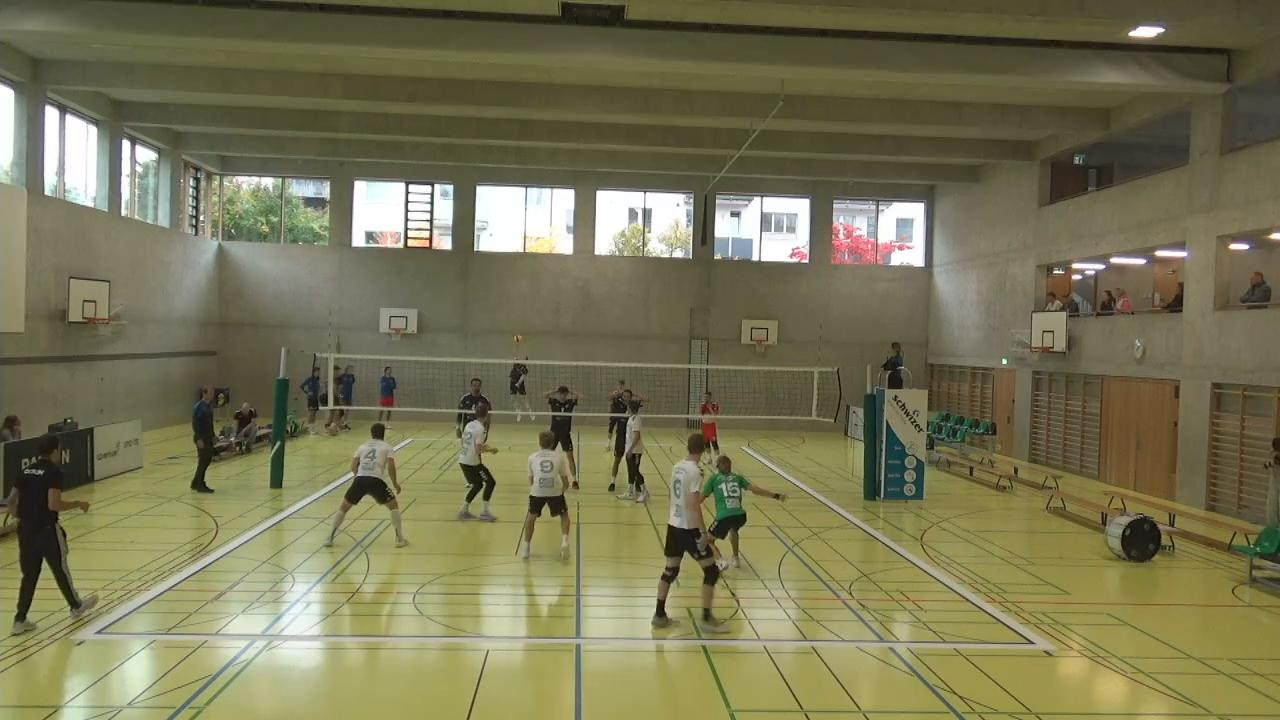Player: (651, 437, 718, 629), (324, 421, 408, 549), (701, 451, 788, 573), (517, 427, 574, 559), (456, 403, 498, 522), (544, 379, 583, 490), (606, 380, 642, 498), (621, 396, 649, 504), (456, 376, 496, 451), (694, 391, 720, 464), (603, 376, 627, 444)
Serve: (505, 341, 539, 429)
ball: (513, 330, 528, 345)
